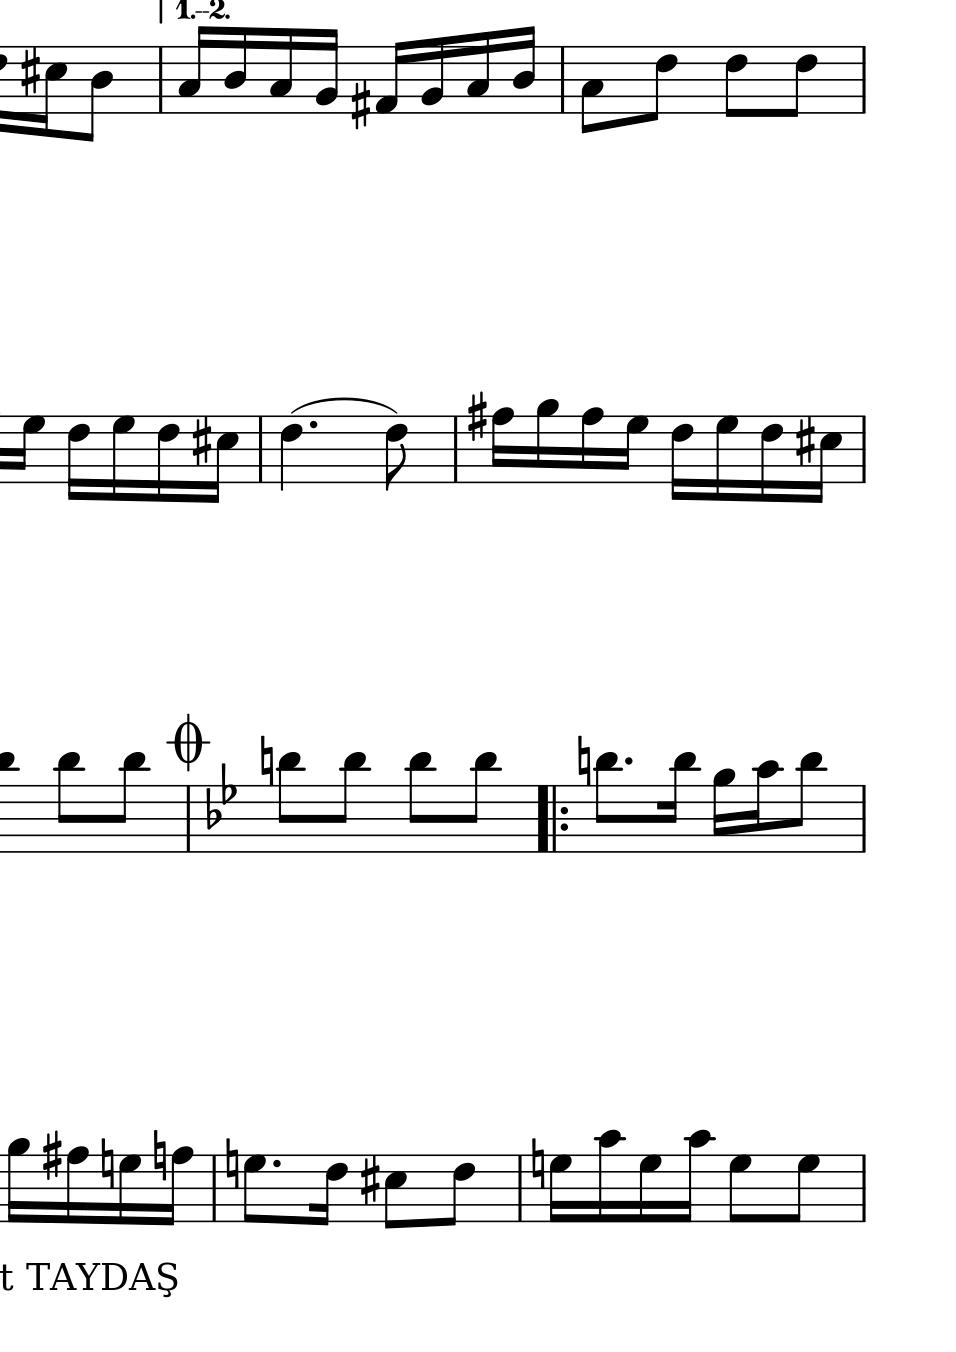16_1: (374, 40, 408, 116)
16_10: (677, 1128, 714, 1226), (747, 758, 781, 855), (595, 1128, 623, 1224)
16_11: (659, 750, 697, 857)
16_2: (313, 26, 340, 116), (418, 36, 446, 116)
16_3: (176, 26, 210, 115), (464, 30, 491, 115), (267, 26, 294, 114)
16_4: (222, 25, 249, 115), (512, 24, 537, 115)
16_5: (811, 413, 844, 504), (207, 414, 240, 504), (36, 46, 66, 139)
16_6: (311, 1152, 347, 1228), (65, 413, 90, 503), (155, 413, 180, 503), (758, 413, 783, 503), (669, 413, 694, 502)
16_7: (109, 411, 135, 504), (713, 413, 739, 503), (617, 413, 649, 484), (13, 413, 44, 485), (636, 1151, 662, 1225), (117, 1152, 142, 1227), (547, 1152, 572, 1226)
16_8: (161, 1146, 193, 1227), (489, 405, 514, 485), (578, 405, 603, 485), (64, 1146, 89, 1226)
16_9: (532, 398, 559, 485), (711, 767, 736, 855), (5, 1136, 28, 1224)
4_6: (278, 414, 305, 493)
8_11: (109, 751, 147, 855), (333, 750, 369, 854), (464, 750, 498, 855), (791, 751, 825, 855), (53, 751, 83, 855), (405, 750, 434, 854), (592, 750, 620, 855), (276, 750, 304, 854)
8_3: (578, 44, 604, 136)
8_4: (81, 46, 113, 145)
8_5: (382, 1152, 407, 1230)
8_6: (644, 44, 678, 124), (782, 44, 817, 120), (441, 1153, 476, 1228), (383, 413, 410, 492), (721, 44, 748, 121)
8_7: (786, 1153, 821, 1225), (727, 1152, 753, 1225), (242, 1153, 266, 1224)
B_F: (205, 762, 239, 830)
Coda: (167, 712, 210, 771)
LeftRepeatSign: (533, 785, 571, 853)
Natural: (529, 1138, 545, 1192), (151, 1129, 167, 1184), (99, 1137, 115, 1191), (225, 1138, 239, 1193), (259, 735, 273, 789), (576, 734, 590, 788)
Sharp: (18, 46, 41, 99), (189, 415, 213, 469), (793, 415, 816, 468), (465, 390, 487, 443), (40, 1129, 62, 1182), (359, 1153, 381, 1206), (350, 78, 370, 131)
Single_barline: (552, 46, 572, 114), (855, 46, 871, 113), (206, 1156, 222, 1222), (856, 416, 871, 484), (448, 416, 464, 482), (856, 786, 871, 852), (252, 417, 268, 482), (856, 1155, 871, 1221), (153, 47, 168, 113), (513, 1155, 528, 1221), (181, 786, 195, 851)
Slur: (290, 396, 394, 414)
dot: (270, 1156, 283, 1171), (622, 756, 634, 769), (307, 419, 319, 432)
